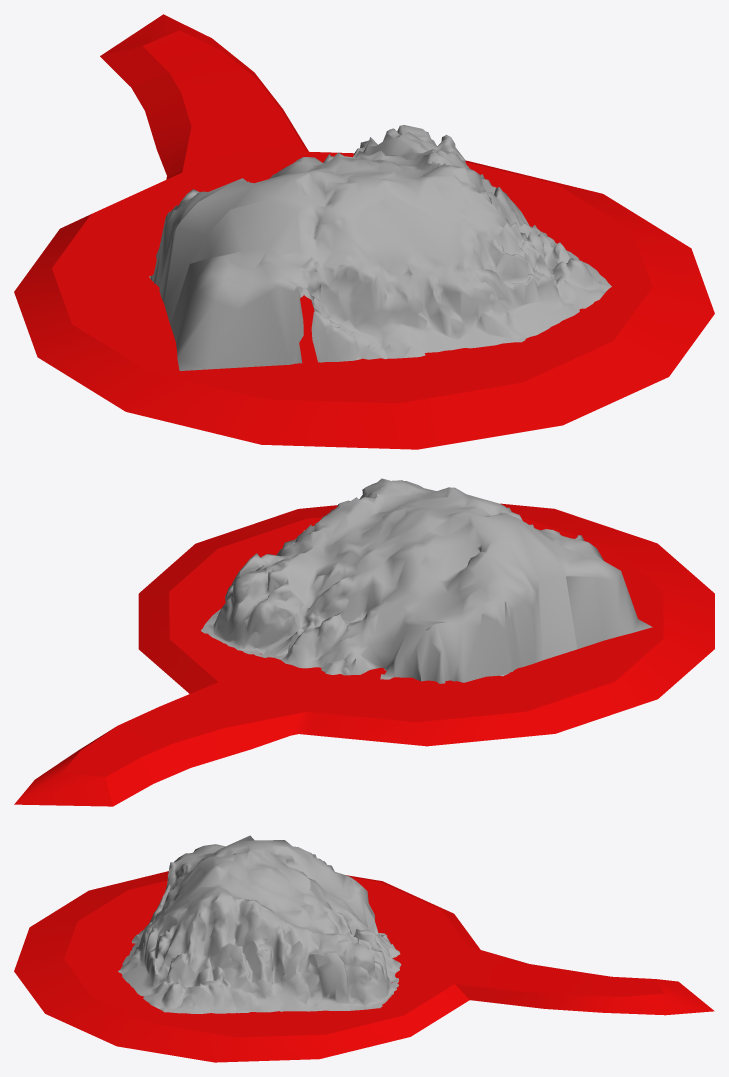
File: Structure.fbx
3 renders of one model, top to bottom at view 1: azimuth 30°, elevation 25°; view 2: azimuth 150°, elevation 25°; view 3: azimuth 270°, elevation 25°, orthographic. The views are drawn at different scales.
Visible parts, largest first — view 1: Structure; view 2: Structure; view 3: Structure.
Boxes of the visible parts, x1=… form: Structure: x1=14, y1=14, x2=714, y2=449; Structure: x1=14, y1=478, x2=714, y2=806; Structure: x1=14, y1=835, x2=714, y2=1062.
Bounding box in the file's own units: 4597 × 1047 × 6893.
